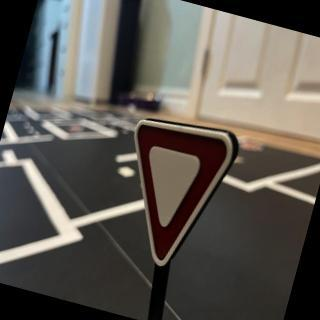sign_yield: (103, 110, 244, 282)
